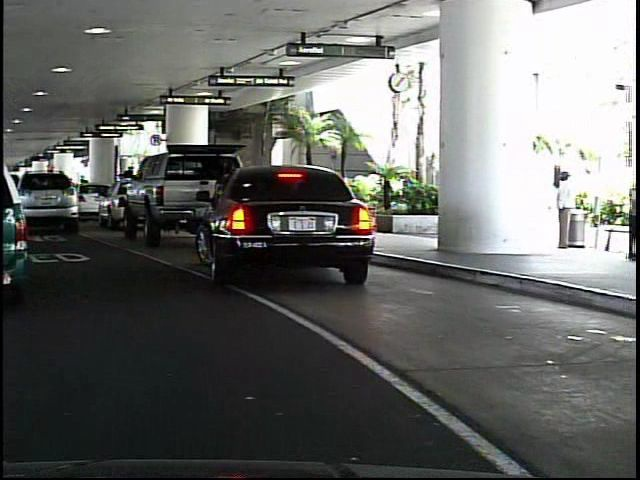person: (617, 172, 637, 267)
